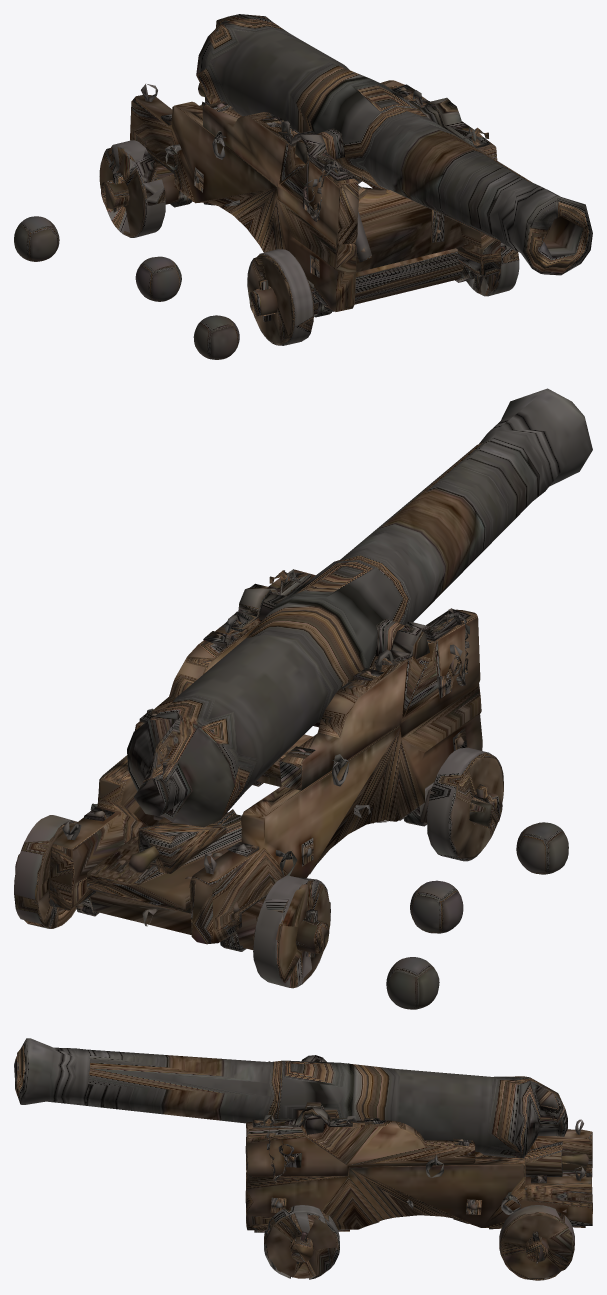
File: cannon_01_lod1.glb
3 views of the same model, one above another, from view 1: azimuth 30°, elevation 25°; view 2: azimuth 150°, elevation 25°; view 3: azimuth 270°, elevation 25° (orthographic). The views are drawn at different scales.
Parts seen in each view (by area): view 1: cannon_01_frame, cannon_01_barrel, cannon_01_wheel_01, cannon_01_wheel_02, cannon_01_ball_02, cannon_01_ball_03, cannon_01_ball_01, cannon_01_wheel_03; view 2: cannon_01_frame, cannon_01_barrel, cannon_01_wheel_01, cannon_01_wheel_02, cannon_01_wheel_04, cannon_01_pusherblock, cannon_01_ball_02, cannon_01_ball_03, cannon_01_ball_01; view 3: cannon_01_barrel, cannon_01_frame, cannon_01_wheel_04, cannon_01_wheel_03, cannon_01_pusherblock.
Part boxes in pixels (bbox=[...]): cannon_01_frame: bbox=[101, 80, 501, 321]; cannon_01_barrel: bbox=[196, 14, 592, 275]; cannon_01_wheel_01: bbox=[247, 249, 314, 345]; cannon_01_wheel_02: bbox=[99, 140, 165, 237]; cannon_01_ball_02: bbox=[135, 256, 181, 301]; cannon_01_ball_03: bbox=[14, 216, 59, 261]; cannon_01_ball_01: bbox=[193, 315, 239, 359]; cannon_01_wheel_03: bbox=[466, 242, 519, 296]; cannon_01_frame: bbox=[15, 569, 502, 957]; cannon_01_barrel: bbox=[127, 388, 592, 827]; cannon_01_wheel_01: bbox=[427, 747, 503, 861]; cannon_01_wheel_02: bbox=[253, 875, 330, 988]; cannon_01_wheel_04: bbox=[14, 815, 77, 928]; cannon_01_pusherblock: bbox=[128, 822, 226, 873]; cannon_01_ball_02: bbox=[410, 880, 463, 933]; cannon_01_ball_03: bbox=[386, 957, 439, 1009]; cannon_01_ball_01: bbox=[516, 822, 568, 874]; cannon_01_barrel: bbox=[14, 1038, 567, 1158]; cannon_01_frame: bbox=[245, 1055, 592, 1264]; cannon_01_wheel_04: bbox=[499, 1205, 574, 1280]; cannon_01_wheel_03: bbox=[264, 1205, 339, 1279]; cannon_01_pusherblock: bbox=[502, 1141, 588, 1176].
Bounding box in the file's own units: 1.28 × 0.8588 × 2.29.
Materials: 1 (1 with a texture image).
